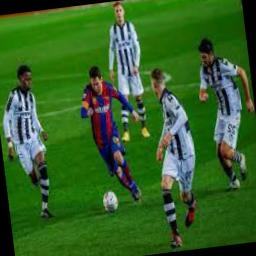football: (102, 189, 119, 213)
